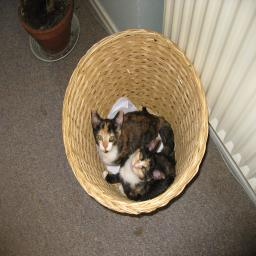catnose: (134, 161, 140, 170), (103, 143, 109, 150)
